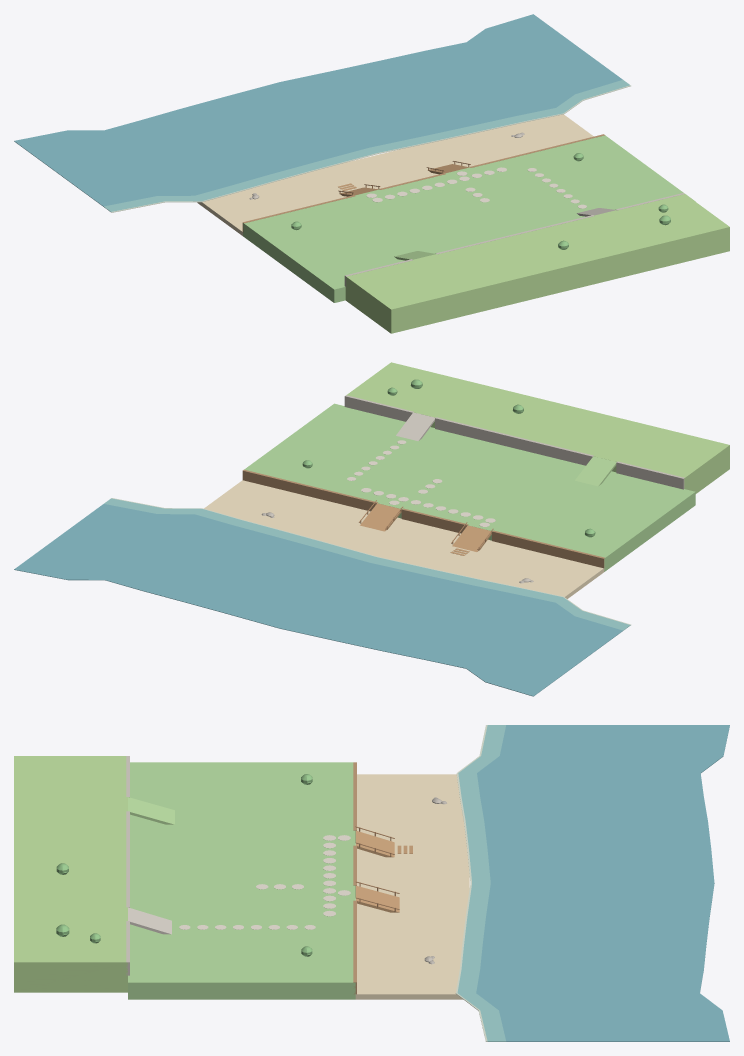
The model's file is map.glb.
The picture shows the model from 3 angles, top to bottom: view 1: azimuth 30°, elevation 25°; view 2: azimuth 150°, elevation 25°; view 3: azimuth 270°, elevation 25°; orthographic projection. The views are drawn at different scales.
Visible parts, largest first — view 1: sg_walkable_tiers_geometry, sg_coastal_water (×3), world_visual_form; view 2: sg_walkable_tiers_geometry, sg_coastal_water (×3), world_visual_form, sg_graded_ramp_y (×4); view 3: sg_walkable_tiers_geometry, sg_coastal_water (×3), world_visual_form, sg_graded_ramp_y (×4).
Boxes of the visible parts, x1,y1,x2,y2 form: sg_walkable_tiers_geometry: [197, 114, 729, 333]; sg_coastal_water (×3): [14, 14, 630, 212]; world_visual_form: [242, 134, 684, 286]; sg_walkable_tiers_geometry: [204, 362, 729, 598]; sg_coastal_water (×3): [14, 498, 630, 696]; world_visual_form: [242, 395, 684, 568]; sg_graded_ramp_y (×4): [360, 412, 616, 551]; sg_walkable_tiers_geometry: [14, 756, 469, 999]; sg_coastal_water (×3): [455, 725, 729, 1041]; world_visual_form: [126, 756, 412, 994]; sg_graded_ramp_y (×4): [128, 797, 399, 934].
Size of what is drawn, in the model's own units: 92 by 5.37 by 88.
